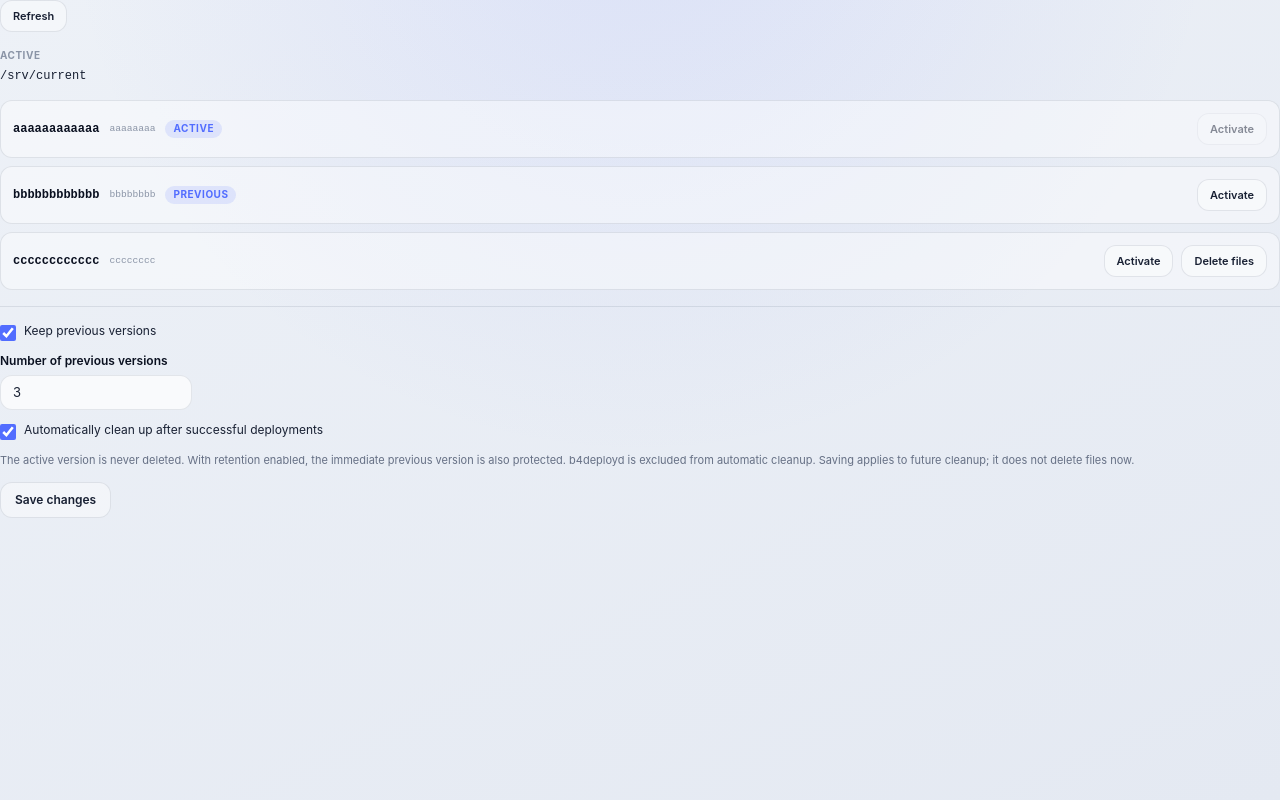
it: ReleasePanel › requires confirmation to disable retention
Expected: the text "aaaaaaaaaaaa" is shown, [13,121,99,137]
What coordinates should you click on to do the following:
click the checkbox labelled "Keep previous versions"
I would click on:
 (8, 333)
Its box is [0,325,16,341].
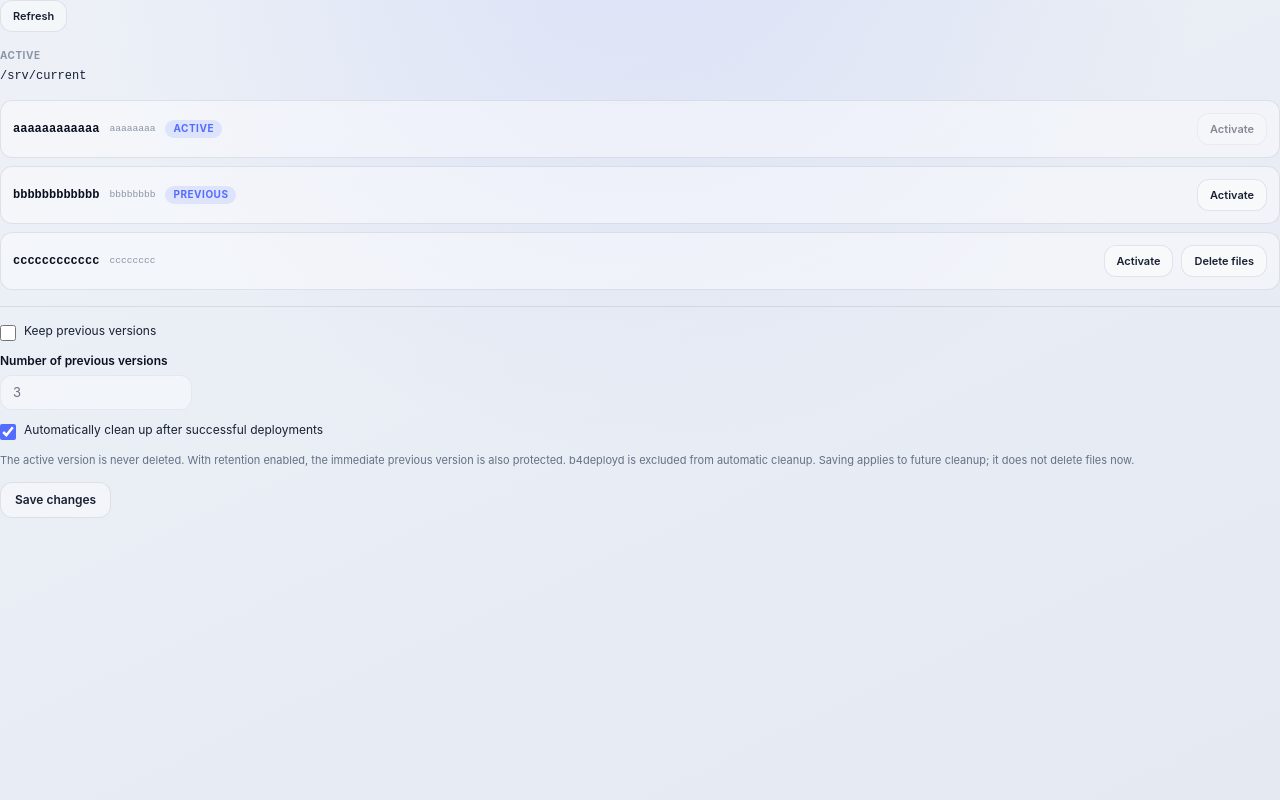
Expected: the number field is disabled, [0,375,192,410]
What coordinates should you click on to do the following:
click the button "Save changes"
I would click on:
 (56, 500)
Its box is [0,482,111,518].
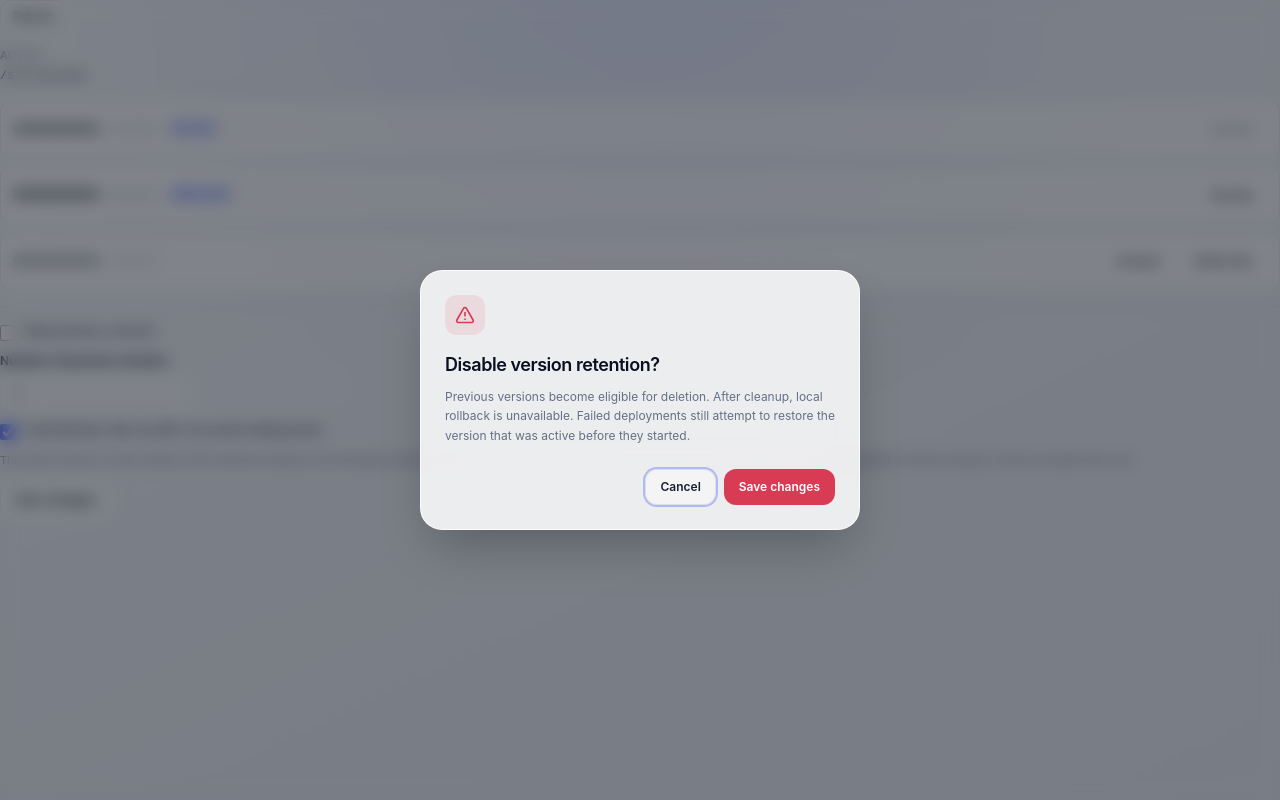
Now the text "local rollback is unavailable" is shown, box [445,389,835,443]
What coordinates should you click on to do the following:
click the button "Save changes" below "Disable version retention?"
I would click on:
 (779, 487)
Its box is [724,469,835,505].
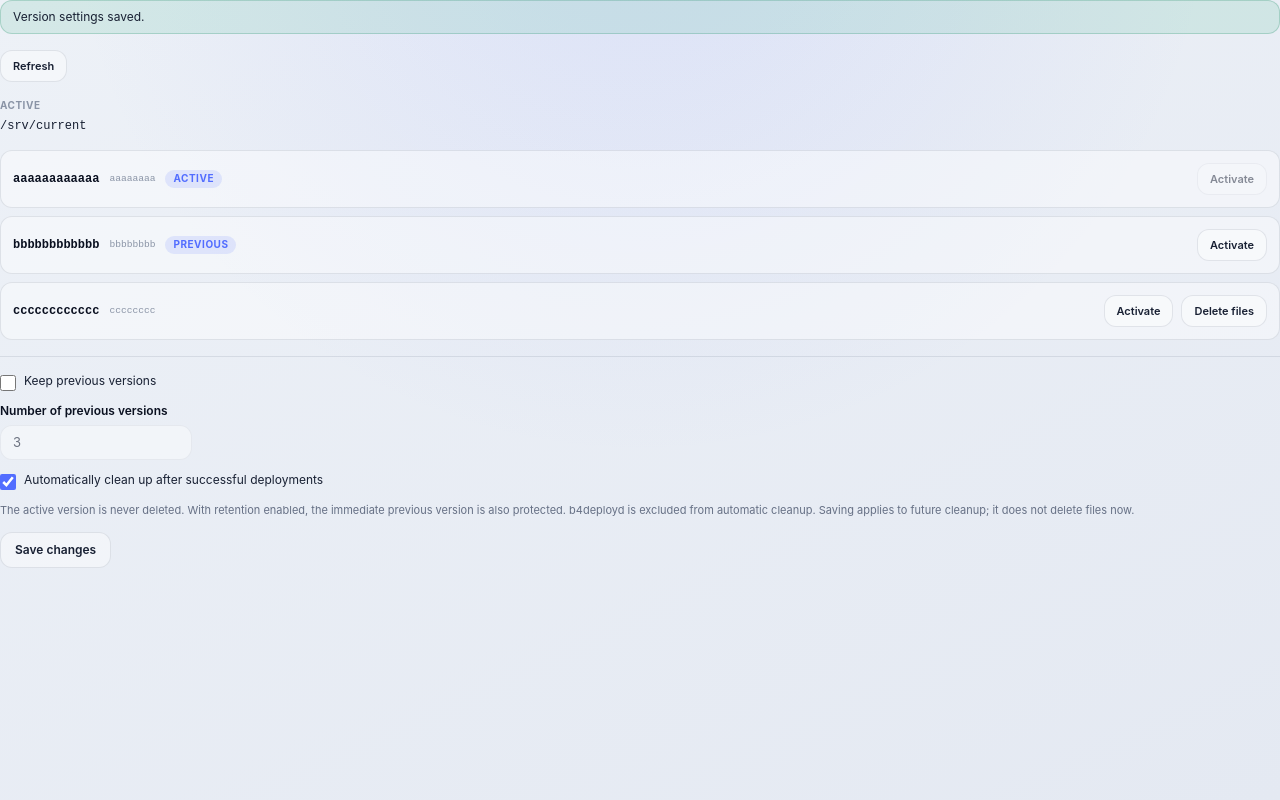
Now the dialog is gone
